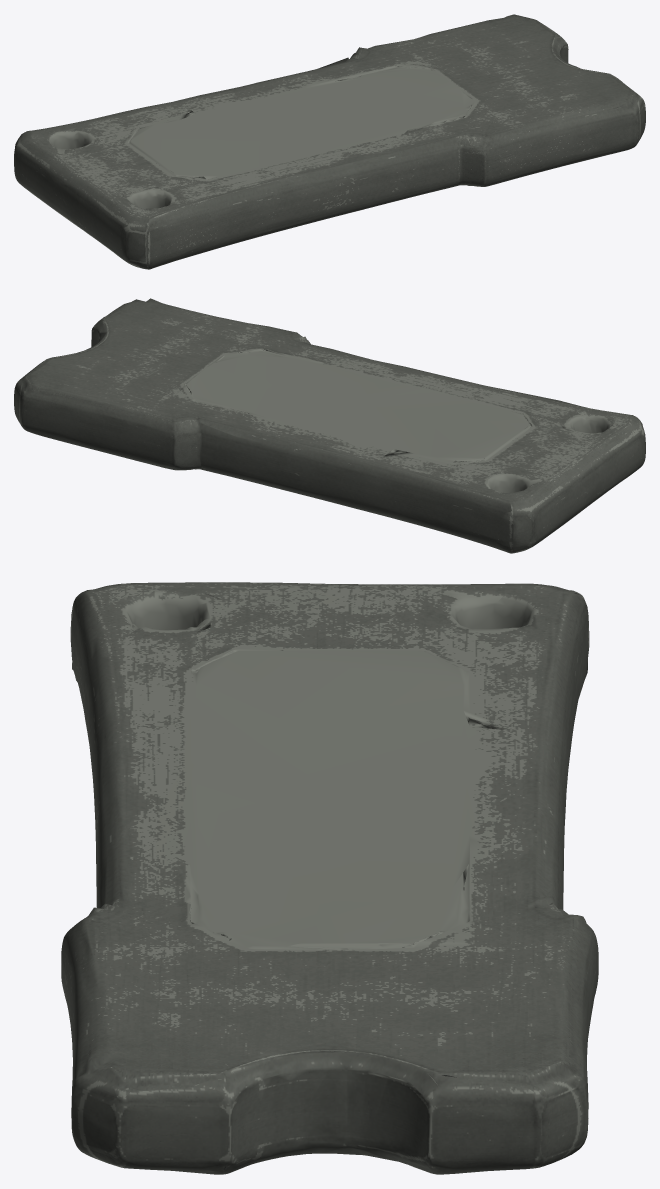
Rendered from 23_debris_small_plate.fbx.
The picture shows the model from 3 angles, top to bottom: view 1: azimuth 30°, elevation 25°; view 2: azimuth 150°, elevation 25°; view 3: azimuth 270°, elevation 25°; orthographic projection. The views are drawn at different scales.
Visible parts, largest first — view 1: 23_debris_small_plate; view 2: 23_debris_small_plate; view 3: 23_debris_small_plate.
Boxes of the visible parts, box(x1,y1,x2,y2) form: 23_debris_small_plate: box(14, 14, 645, 269); 23_debris_small_plate: box(14, 298, 645, 553); 23_debris_small_plate: box(61, 582, 598, 1174).
Bounding box in the file's own units: 0.8 × 0.0795 × 0.3553.
Materials: 1 (1 with a texture image).
